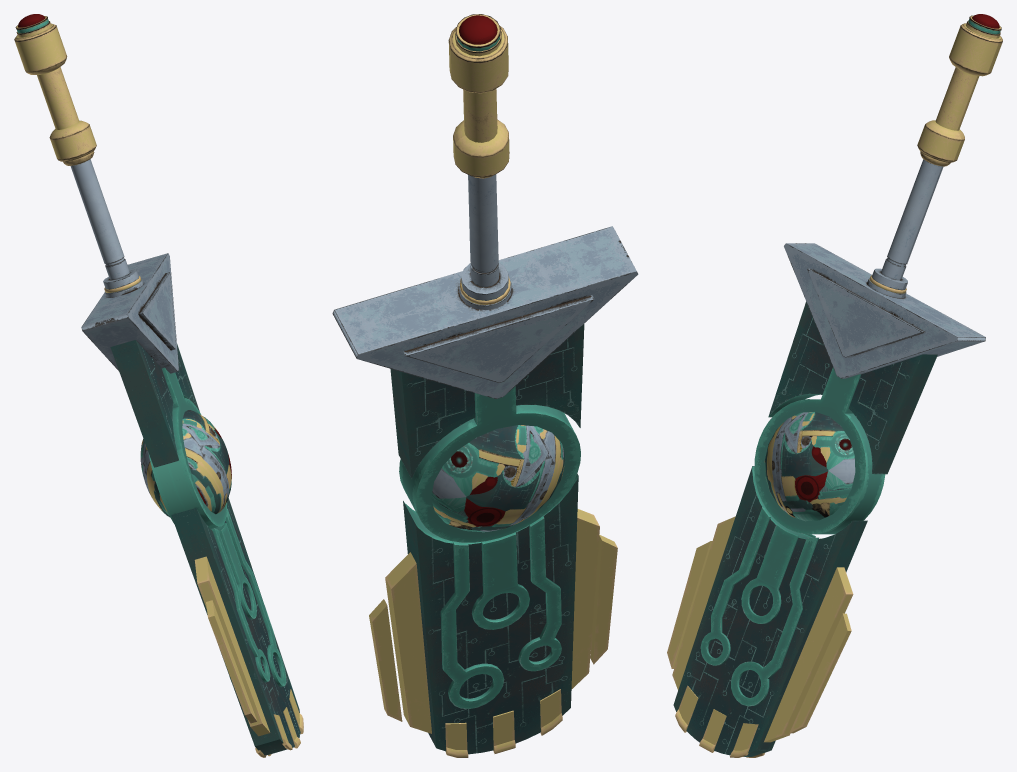
Rendered from transistor1.fbx.
The picture shows the model from 3 angles, left to right: view 1: azimuth 30°, elevation 25°; view 2: azimuth 150°, elevation 25°; view 3: azimuth 270°, elevation 25°; orthographic projection. The views are drawn at different scales.
Parts seen in each view (by area): view 1: Gold_Big_low.001; view 2: Gold_Big_low.001; view 3: Gold_Big_low.001.
Part boxes in pixels (box(x1,y1,x2,y2)): Gold_Big_low.001: box(14, 14, 303, 757); Gold_Big_low.001: box(332, 14, 638, 757); Gold_Big_low.001: box(667, 14, 1002, 757).
Bounding box in the file's own units: 155 × 509 × 227.
